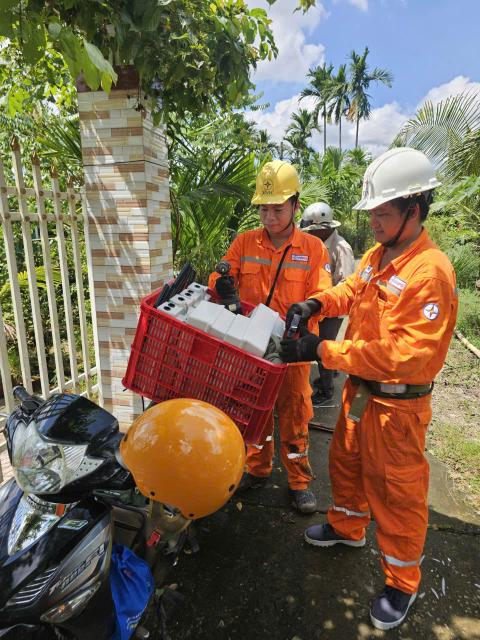gloves: (266, 325, 326, 366), (207, 268, 241, 305), (287, 296, 324, 319), (283, 312, 310, 332)
harness: (348, 366, 433, 401)
helmet: (353, 142, 441, 215), (252, 158, 302, 209), (298, 199, 338, 226)
shoes: (373, 566, 419, 635), (302, 519, 370, 550), (233, 467, 283, 501), (280, 479, 319, 518), (312, 368, 347, 387), (311, 388, 334, 408)
